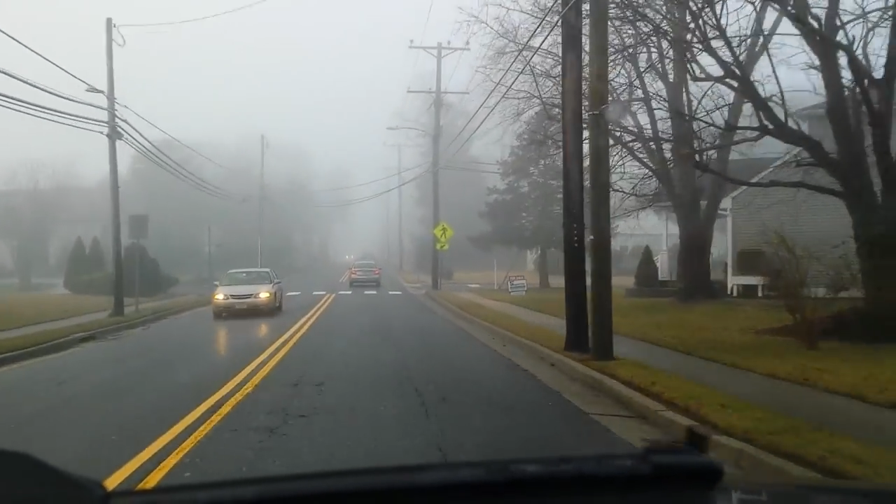car: (207, 265, 285, 319), (345, 259, 384, 287)
